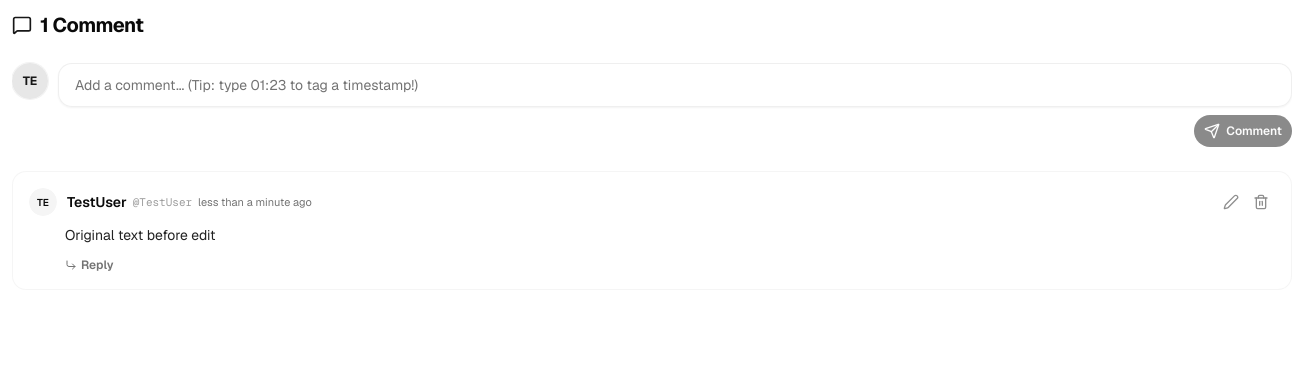
Scenario: EngagementButtons & CommentsSection › CommentsSection › allows author to edit a comment and updates content
Expected: the text "Original text before edit" is shown, [65,226,215,244]
# Click Edit action button
Click the button titled "Edit comment" at (1231, 202), box [1217,188,1245,216]
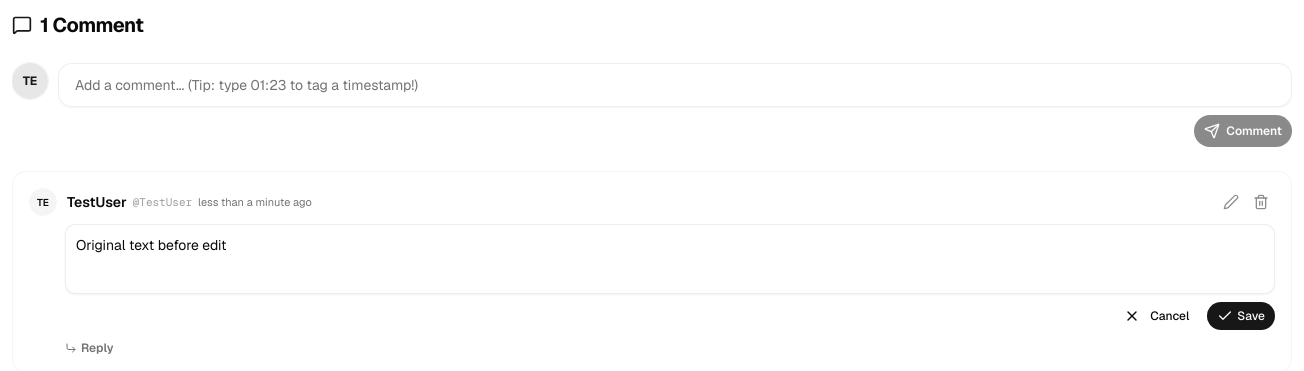
# Edit textarea should now appear
Replace the text in the text box with placeholder "Edit your comment..." with "Edited text after update" at (670, 259), box [65,224,1275,294]
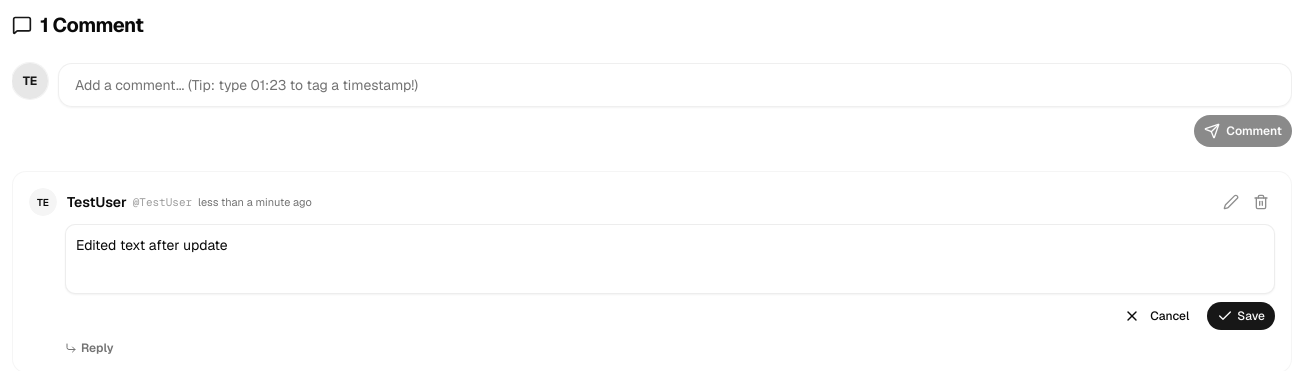
# Save edit
Click the button "Save" at (1241, 316), box [1207,302,1275,330]
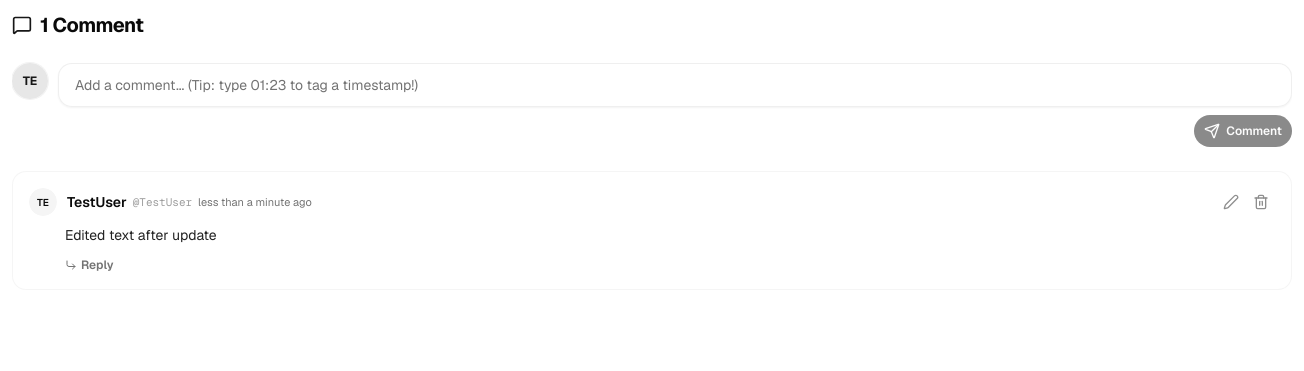
Expected: the text "Edited text after update" is shown, [65,226,217,244]
